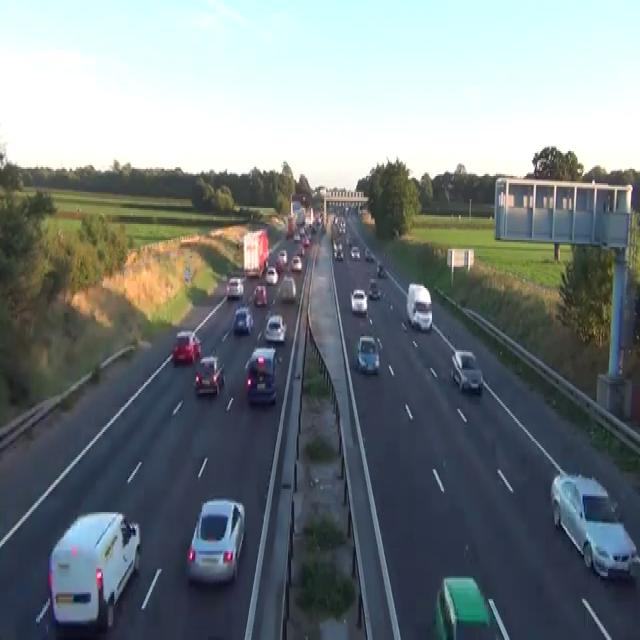Car: (47, 510, 141, 630), (550, 471, 639, 580), (185, 498, 245, 585), (431, 574, 511, 638), (244, 346, 278, 404), (450, 348, 483, 394), (194, 356, 225, 394), (172, 329, 201, 364), (356, 334, 379, 374), (245, 347, 276, 375), (264, 315, 286, 343), (233, 304, 253, 334), (350, 288, 367, 315), (279, 276, 296, 300), (225, 277, 243, 299), (253, 284, 267, 306), (332, 215, 346, 235), (275, 249, 287, 272), (368, 278, 380, 300), (265, 266, 278, 284), (290, 254, 302, 272), (333, 242, 343, 261), (364, 246, 374, 262), (278, 249, 287, 265), (274, 256, 283, 272), (350, 246, 360, 260), (376, 262, 384, 278), (293, 229, 300, 242), (236, 236, 243, 249), (286, 226, 293, 238), (301, 237, 309, 247), (364, 245, 370, 258), (297, 245, 304, 256), (345, 235, 351, 245)
Truck: (243, 226, 268, 277), (406, 282, 432, 330)
